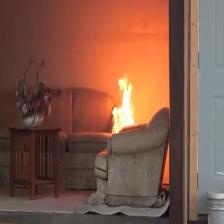fire: (115, 75, 139, 130)
